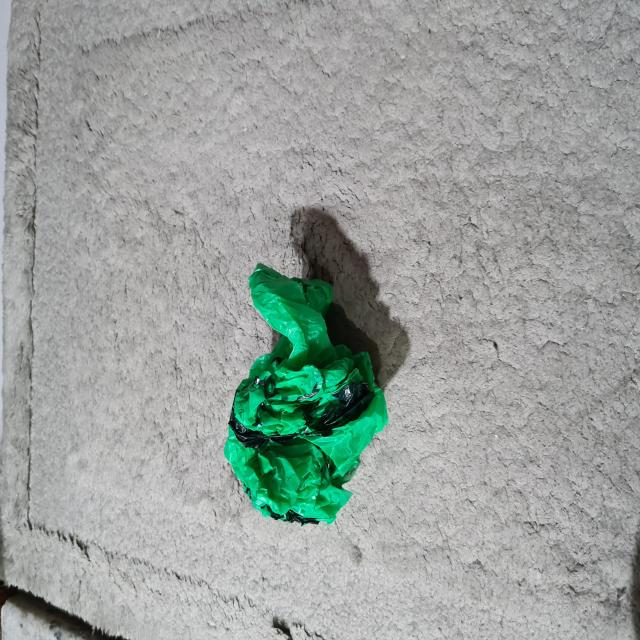plastic bag: (87, 296, 283, 522)
